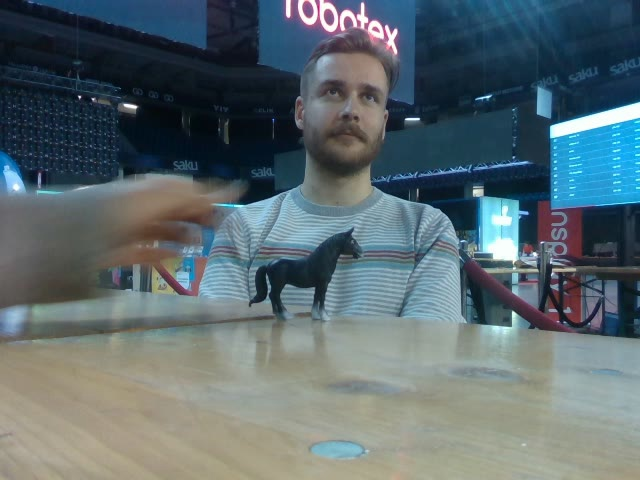toy: (250, 228, 362, 321)
